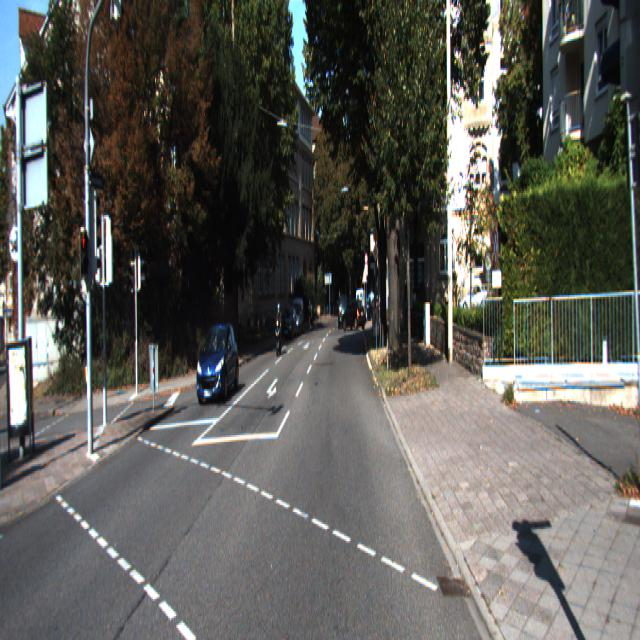Car: (195, 318, 240, 406), (342, 298, 367, 332), (280, 306, 297, 342), (274, 300, 284, 355)
